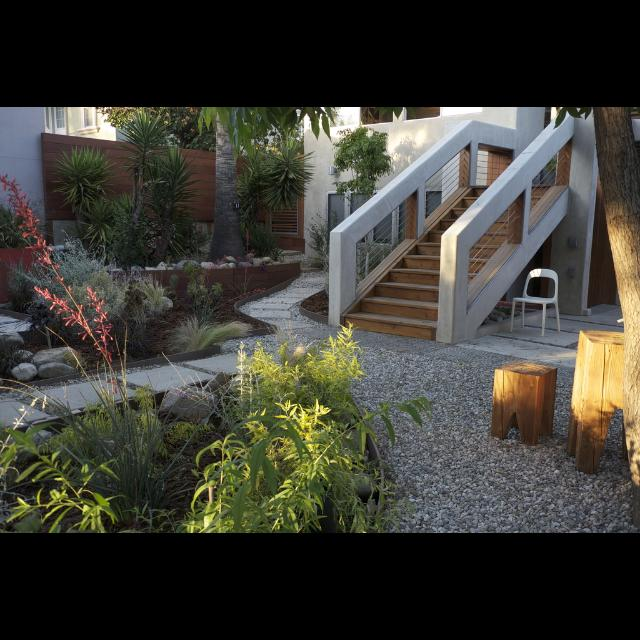Flower: (0, 174, 62, 266), (30, 286, 99, 338), (84, 288, 120, 362), (202, 254, 228, 284), (241, 289, 267, 299), (244, 226, 252, 248)
